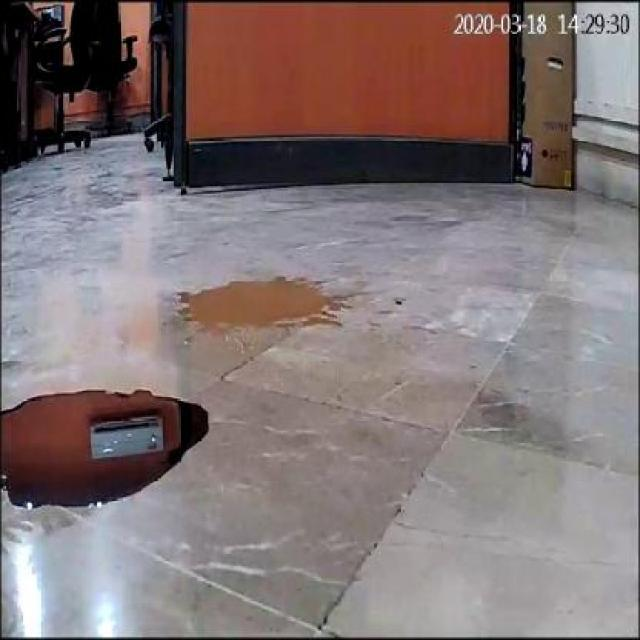spill: (3, 385, 215, 513), (182, 273, 350, 332)
